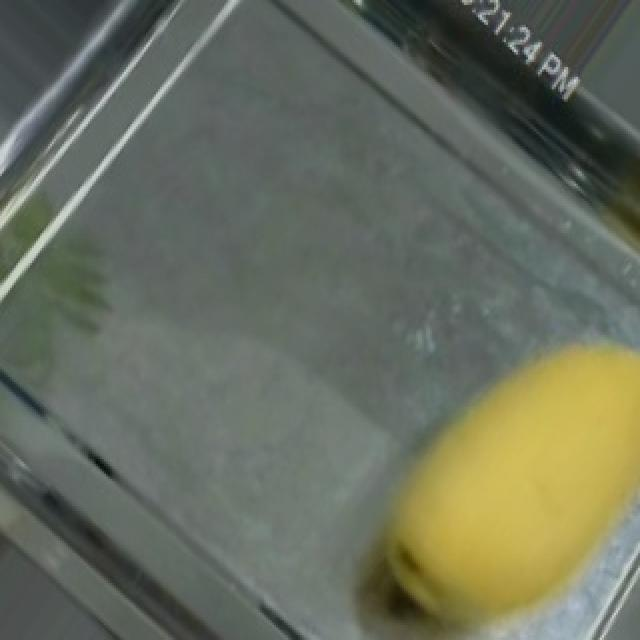fruit: (324, 270, 640, 640)
